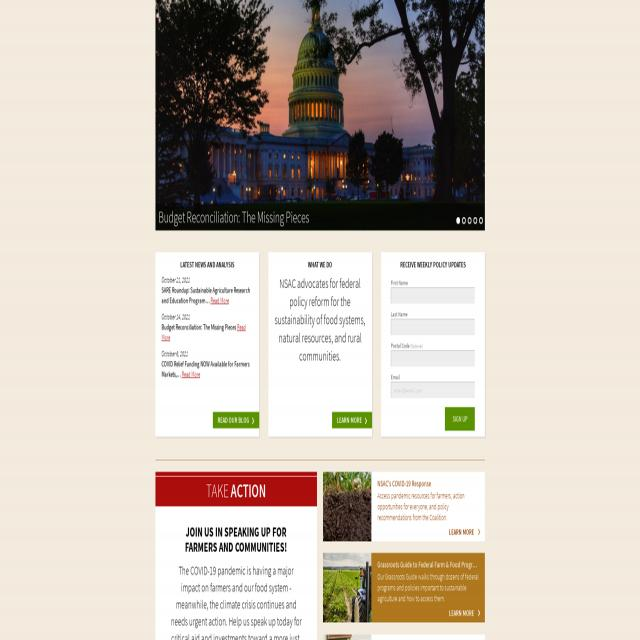button: (160, 0, 480, 365), (201, 562, 494, 614), (323, 472, 371, 542)
field: (391, 288, 475, 304), (391, 319, 475, 335), (391, 382, 475, 398), (391, 351, 475, 366), (445, 407, 475, 430)
